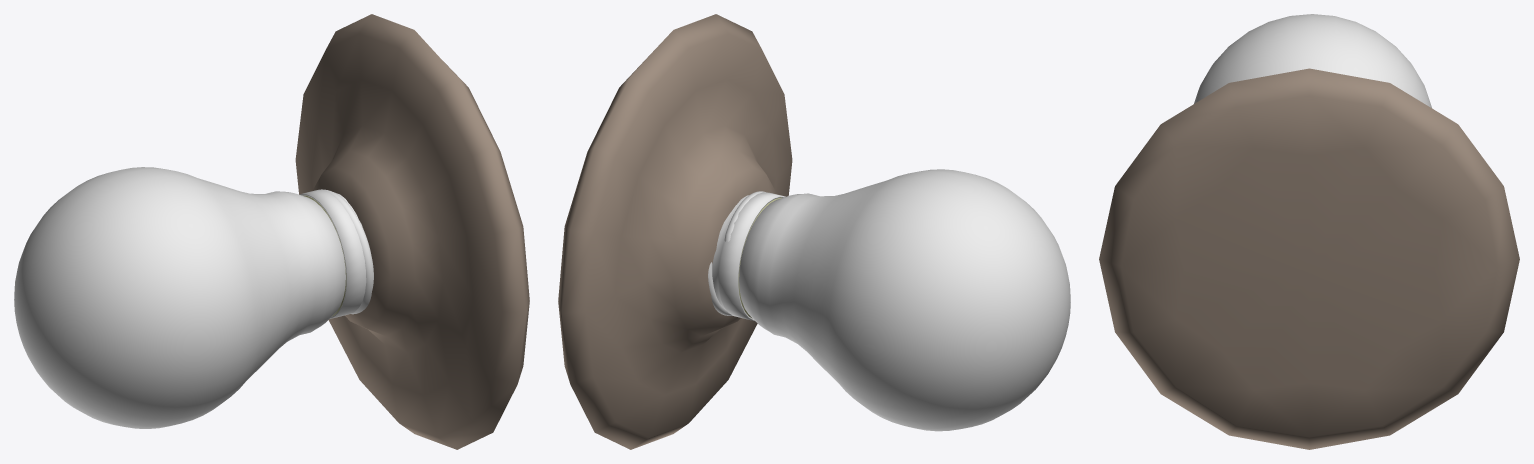
The model's file is Single_bulb.fbx.
3 renders of one model, left to right at view 1: azimuth 30°, elevation 25°; view 2: azimuth 150°, elevation 25°; view 3: azimuth 270°, elevation 25°, orthographic. The views are drawn at different scales.
Parts seen in each view (by area): view 1: bulb; view 2: bulb; view 3: bulb.
Boxes of the visible parts, x1,y1,x2,y2 form: bulb: (14,14,529,449); bulb: (558,14,1070,449); bulb: (1099,14,1519,449).
Size of the model in its own units: 24.09 by 23.09 by 23.09.
